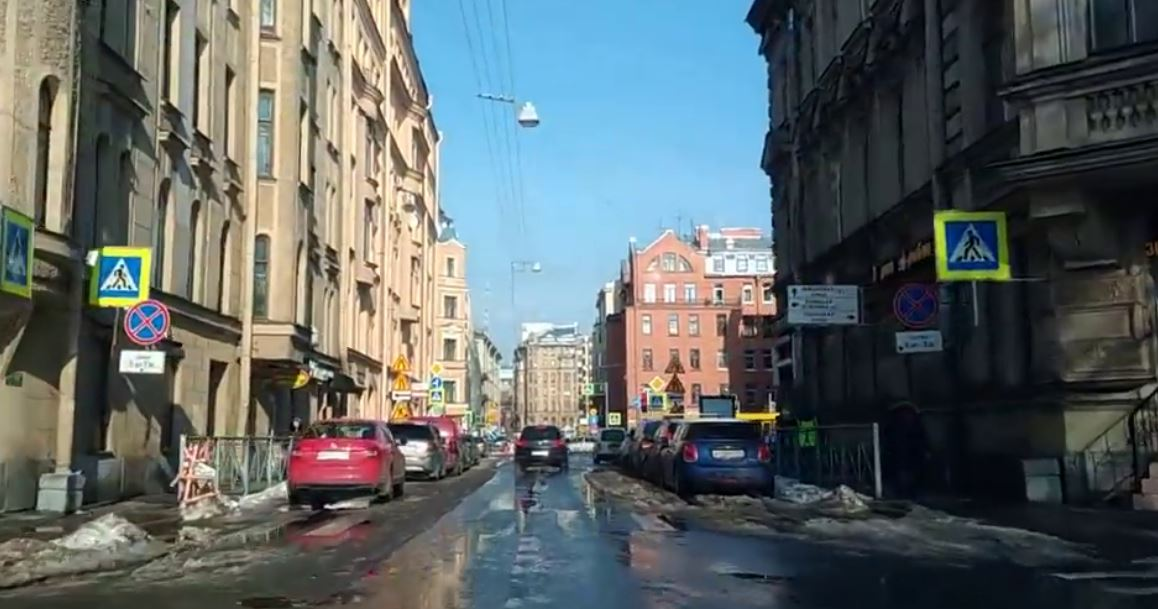Yaya Gecidi: (942, 221, 999, 277), (103, 254, 140, 299)
